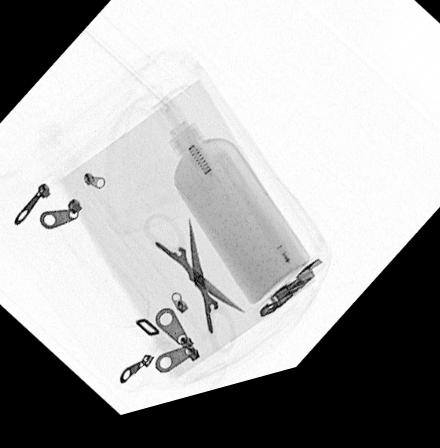Scissors: (140, 221, 248, 366)
